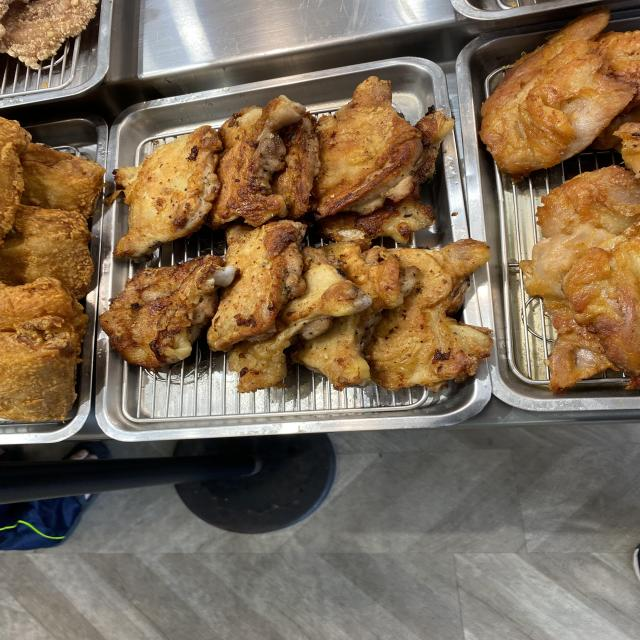Chicken Leg Steak: (222, 132, 430, 344)
